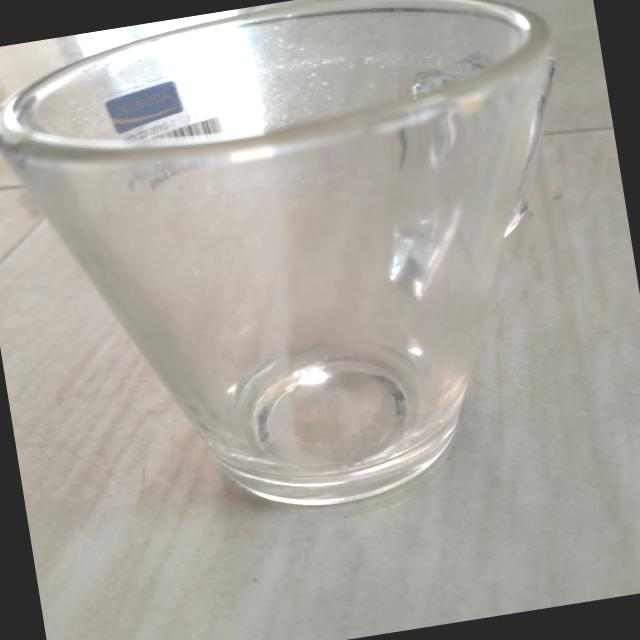glass-VX4N: (0, 0, 622, 548)
